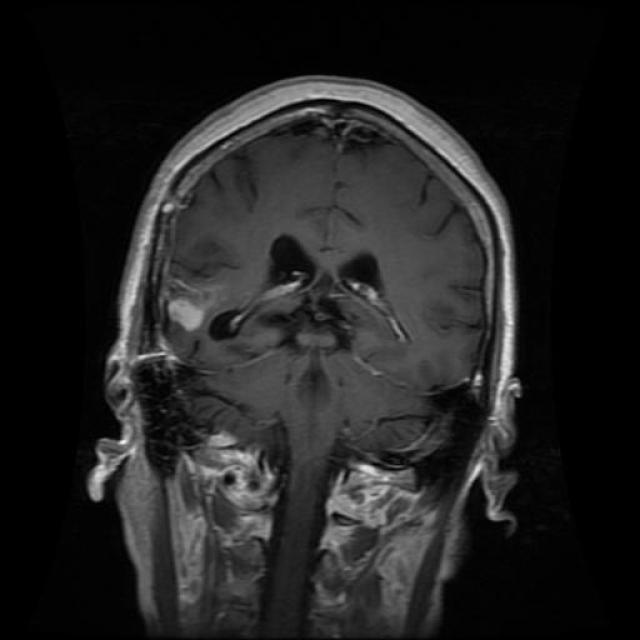glioma: (216, 234, 412, 358)
